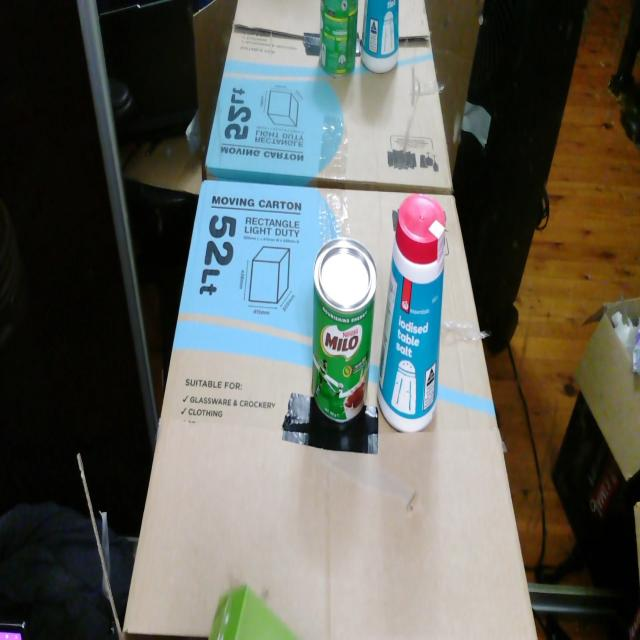nestle_milo_tin: (312, 237, 378, 422)
twinings_greentea_box: (209, 584, 298, 639)
woolworths_salt_bottle: (377, 194, 446, 432)
